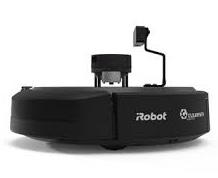turtlebot: (3, 14, 215, 155)
